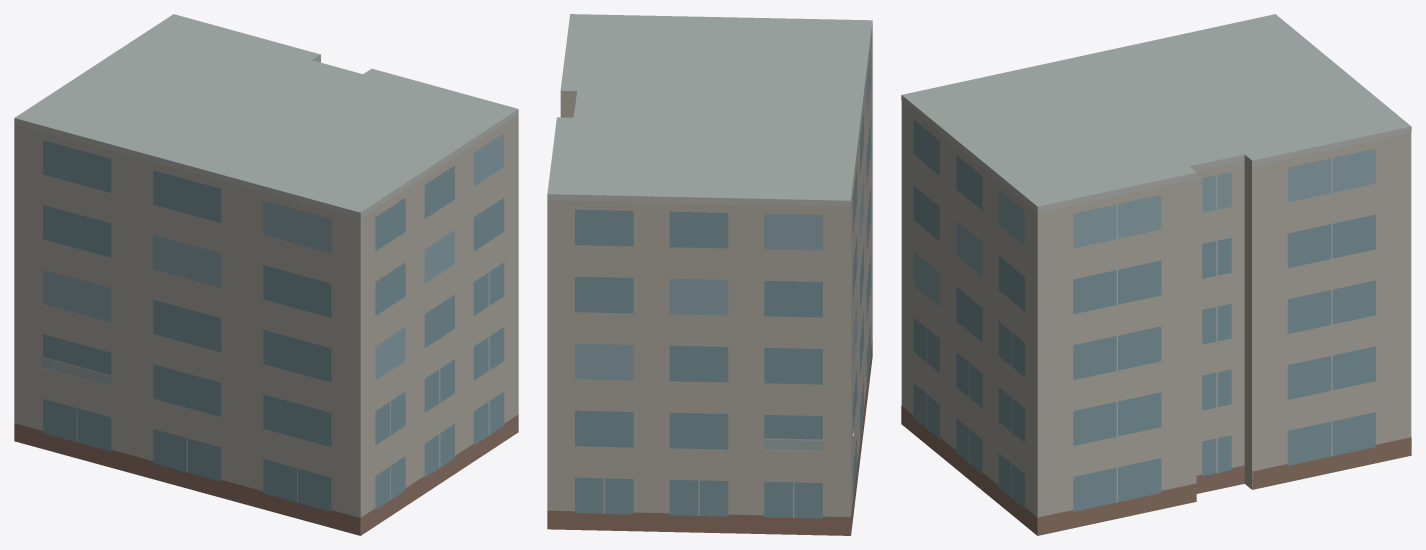
File: survey-upis-33043980.glb
3 views of the same model, side by side, from view 1: azimuth 30°, elevation 25°; view 2: azimuth 150°, elevation 25°; view 3: azimuth 270°, elevation 25° (orthographic). The views are drawn at different scales.
Visible parts, largest first — view 1: survey-upis-33043980.tmp; view 2: survey-upis-33043980.tmp; view 3: survey-upis-33043980.tmp.
Part boxes in pixels (bbox=[...]): survey-upis-33043980.tmp: bbox=[14, 14, 518, 535]; survey-upis-33043980.tmp: bbox=[547, 14, 872, 535]; survey-upis-33043980.tmp: bbox=[901, 14, 1411, 535].
Size of the model in its own units: 16.7 by 13.3 by 18.68.
